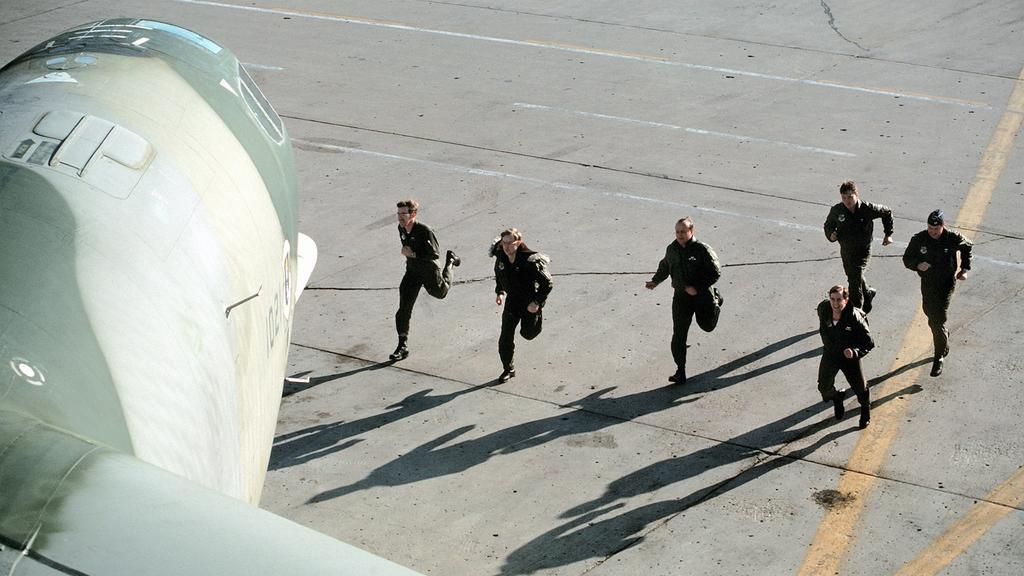B52: (1, 17, 428, 576)
